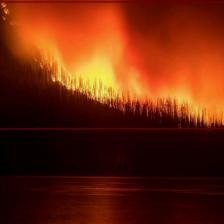fire: (0, 1, 224, 129)
